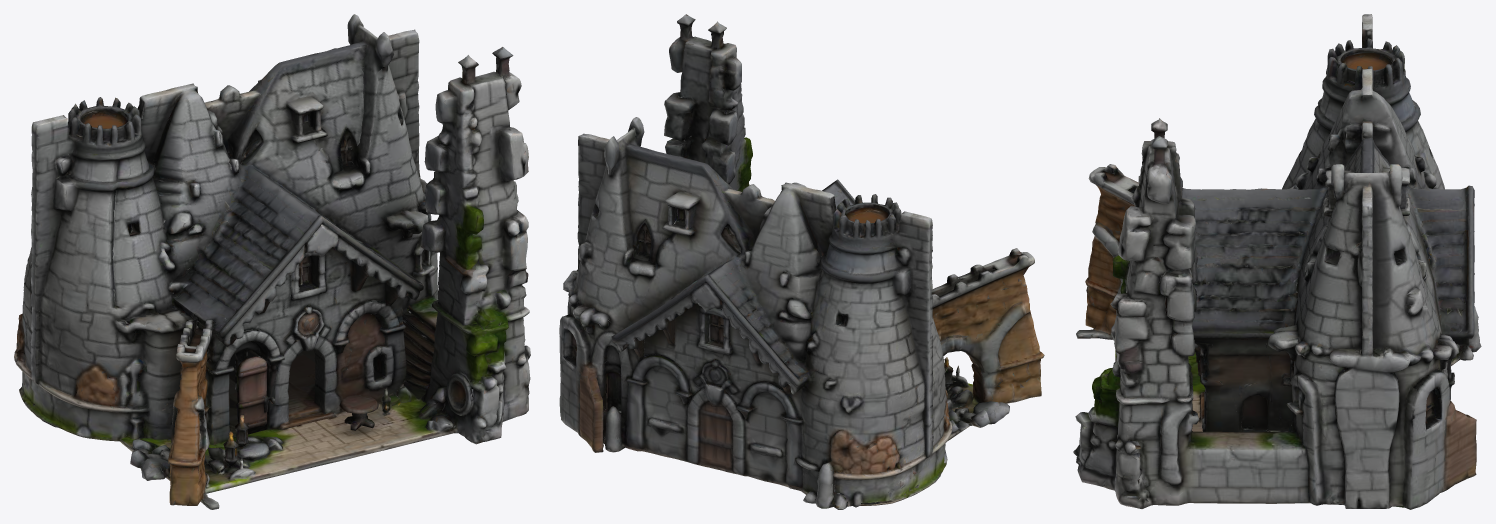
The model's file is Dwarven Building #26_final.glb.
3 renders of one model, left to right at view 1: azimuth 30°, elevation 25°; view 2: azimuth 150°, elevation 25°; view 3: azimuth 270°, elevation 25°, orthographic. The views are drawn at different scales.
Bounding box in the file's own units: 1.91 × 1.68 × 1.7.
1 material, 1 textured.
